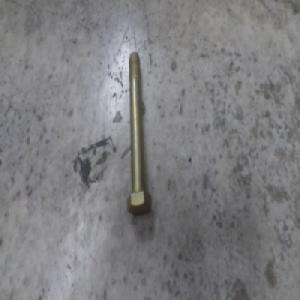Bolt: (125, 49, 151, 209)
